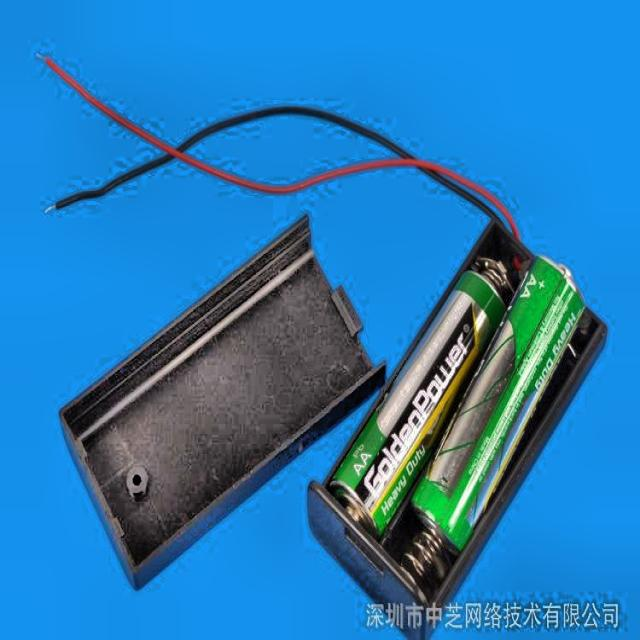Non-Valuable Waste - Batteries: (330, 258, 512, 536), (412, 257, 584, 551)
